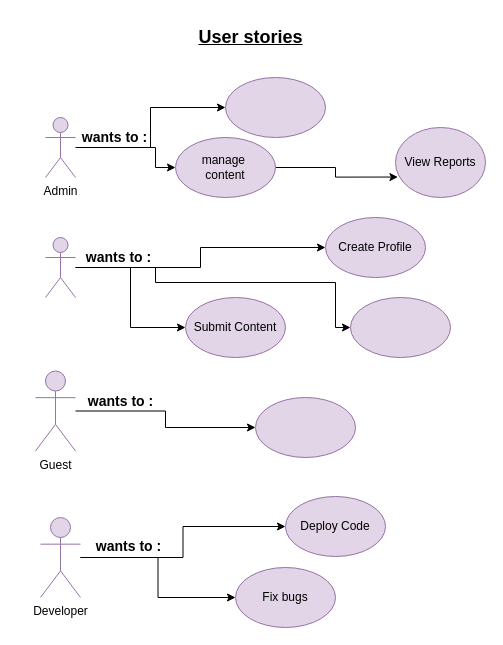
Image size: 503x645. Some labels were removed from this diagram. Here are the shapes that lost their labels. From the top down, the centre of each, then its label:
(x=275, y=107): manage Users
(x=60, y=267): Registered User
(x=400, y=327): View Dashboard
(x=305, y=427): wants to browse Content
